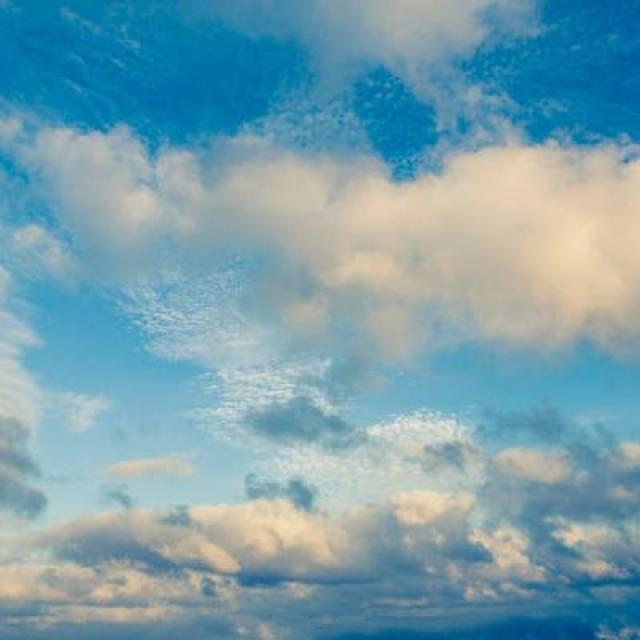Cs: (1, 55, 640, 593)
